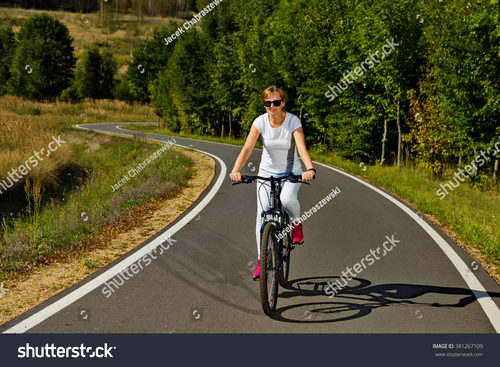bikerider: (225, 78, 325, 315)
